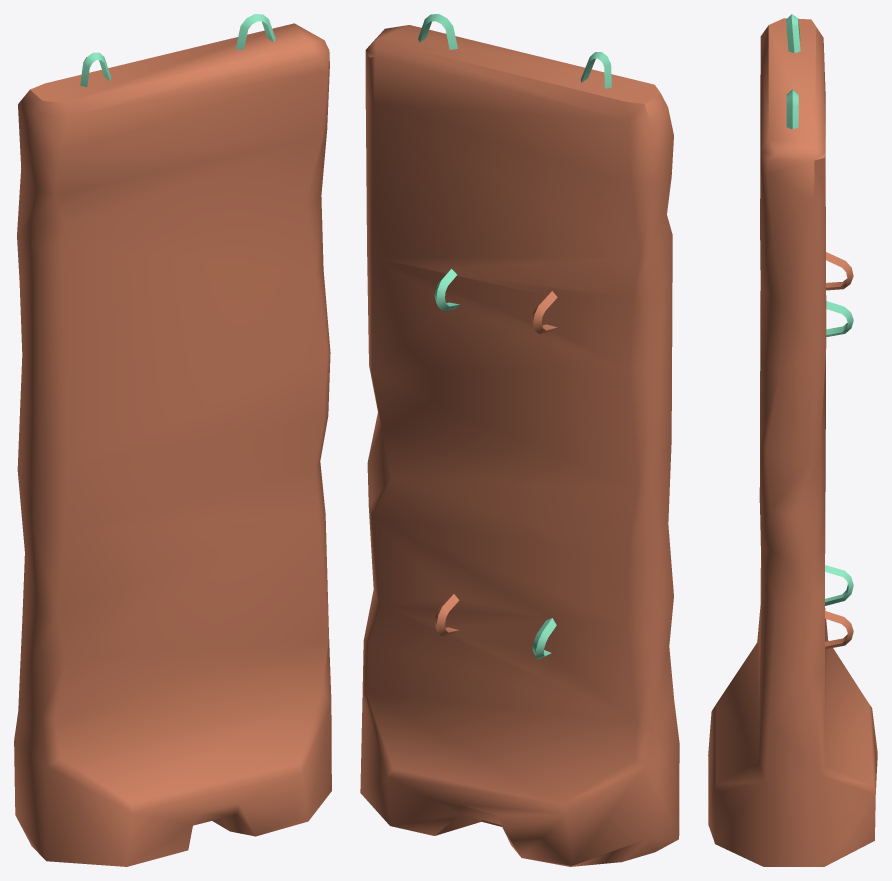
The picture shows the model from 3 angles, left to right: view 1: azimuth 30°, elevation 25°; view 2: azimuth 150°, elevation 25°; view 3: azimuth 270°, elevation 25°; orthographic projection. The views are drawn at different scales.
Parts seen in each view (by area): view 1: ir_twall_01_Material.001_0, split_parent_1; view 2: ir_twall_01_Material.001_0, split_parent_1; view 3: ir_twall_01_Material.001_0, split_parent_1.
Part boxes in pixels (x1,y1,x2,y2): ir_twall_01_Material.001_0: [14, 23, 331, 866]; split_parent_1: [80, 14, 275, 86]; ir_twall_01_Material.001_0: [360, 25, 679, 866]; split_parent_1: [418, 14, 611, 659]; ir_twall_01_Material.001_0: [708, 18, 877, 866]; split_parent_1: [786, 14, 853, 605].
Size of the model in its own units: 0.3827 by 1 by 0.2055.
